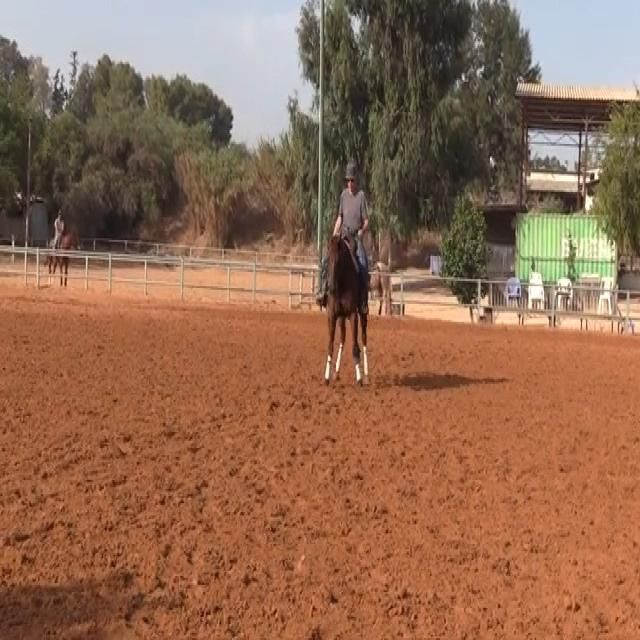horse: (322, 230, 371, 390)
